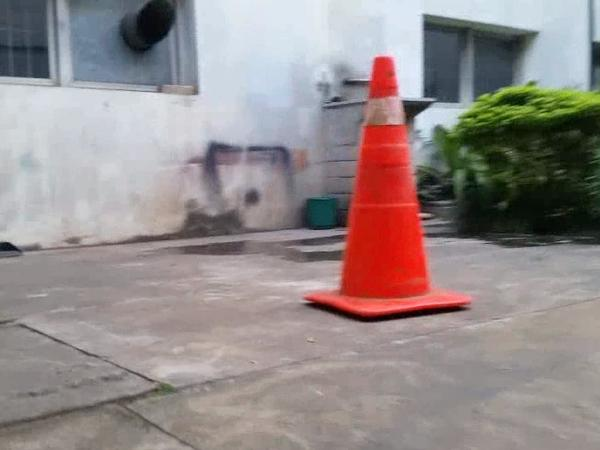0 cone: (303, 56, 469, 317)
